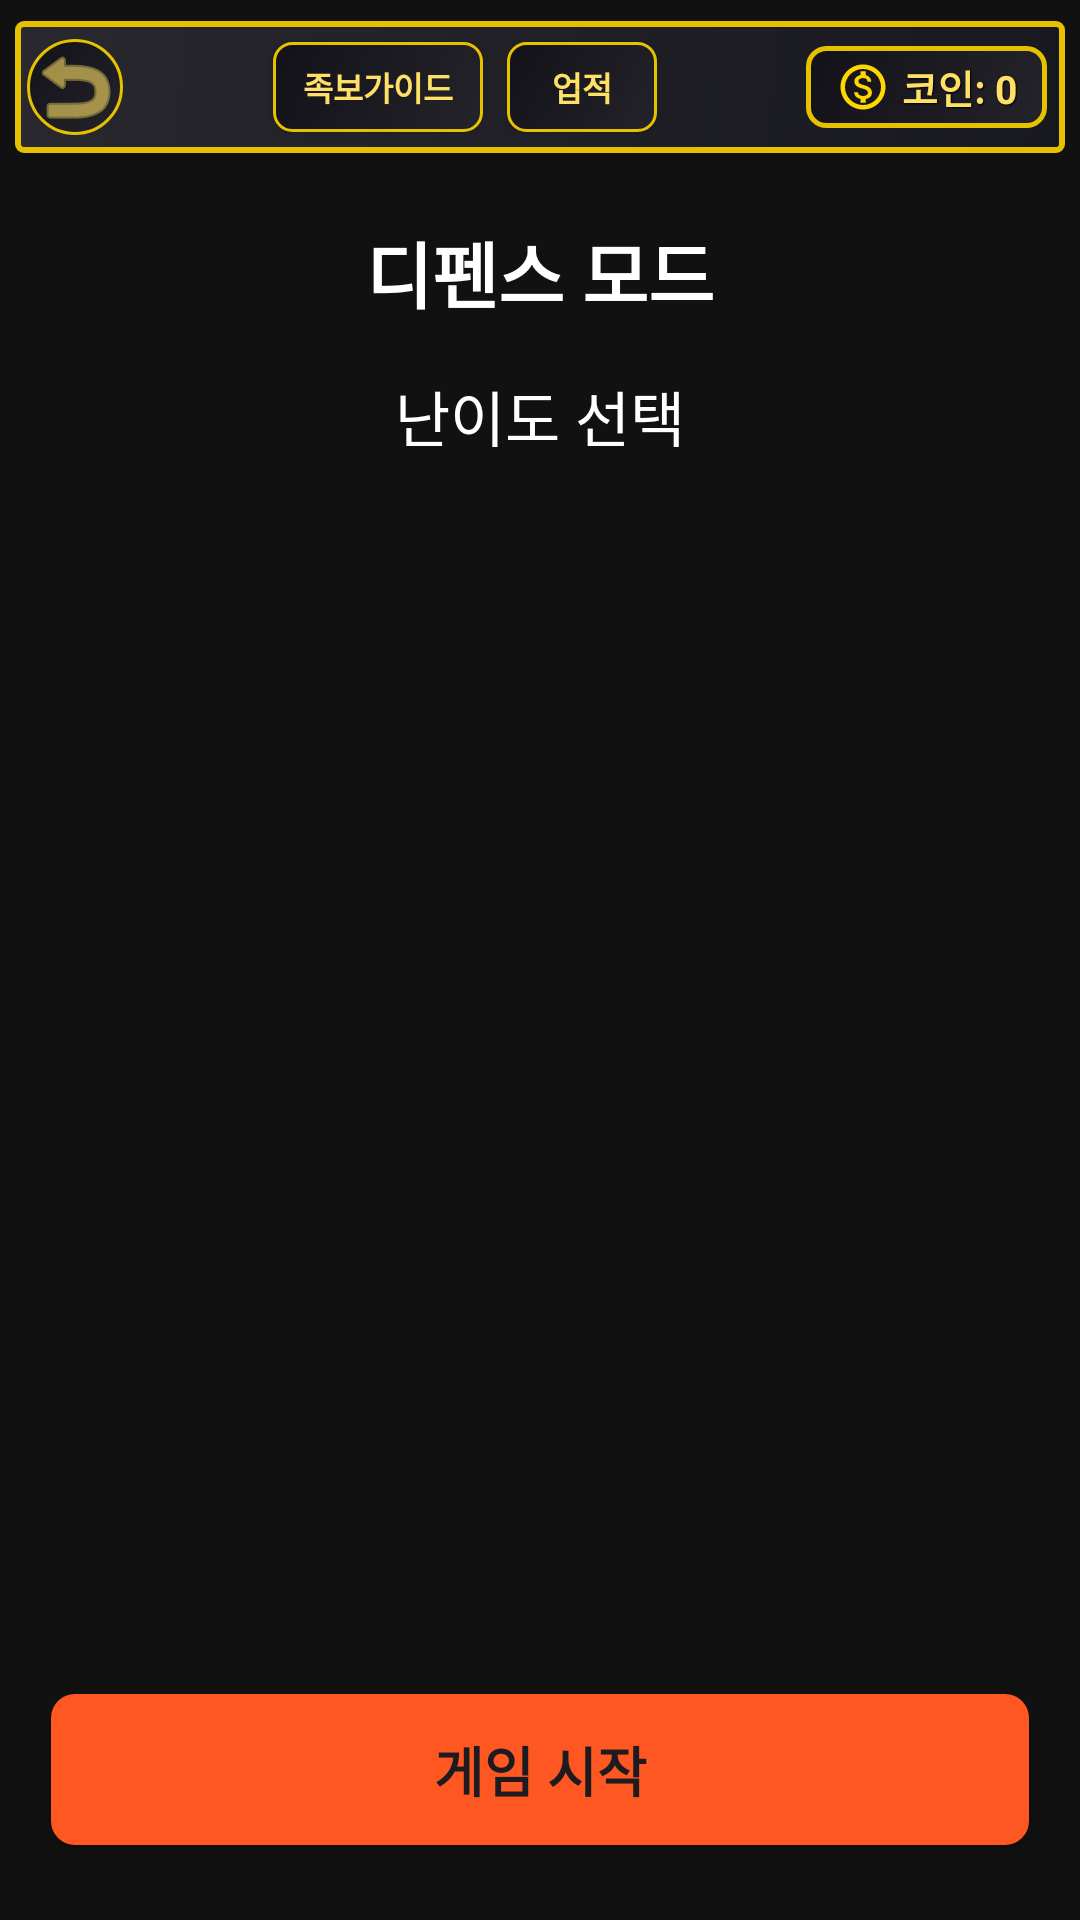

Icons on this 1080px x 1920px Android screen, each with the point to tap as (x,y):
coin: (863,87)
뒤로가기: (75,87)
